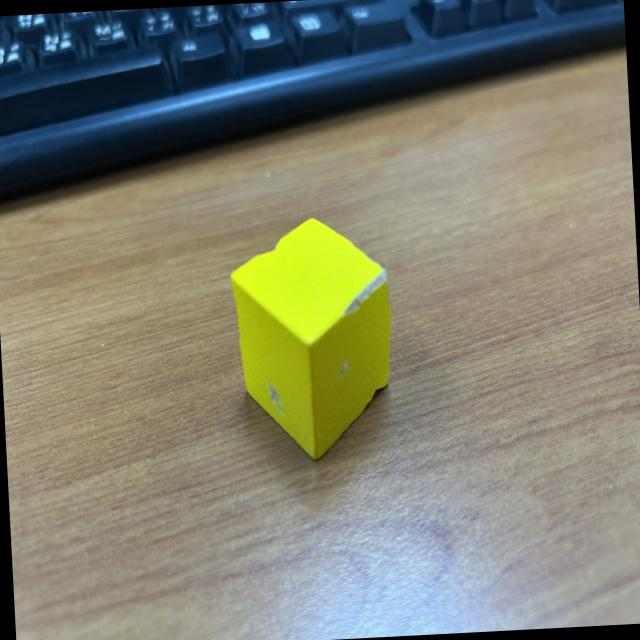broken: (227, 213, 399, 464)
